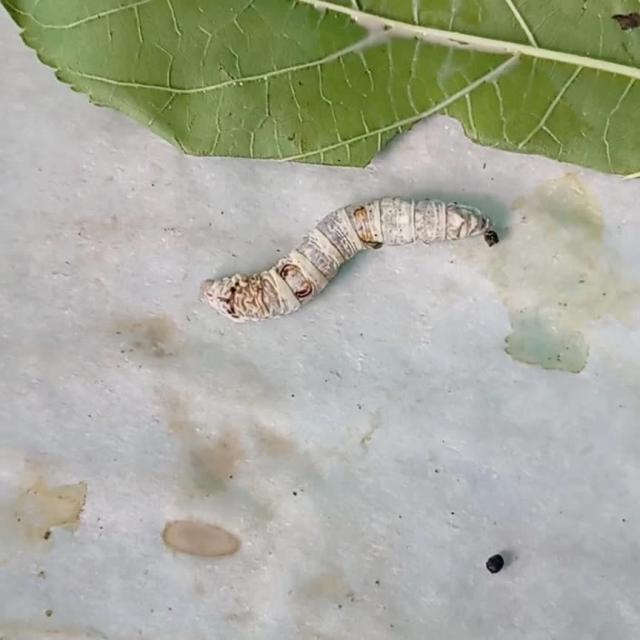Grasserie: (193, 158, 534, 382)
